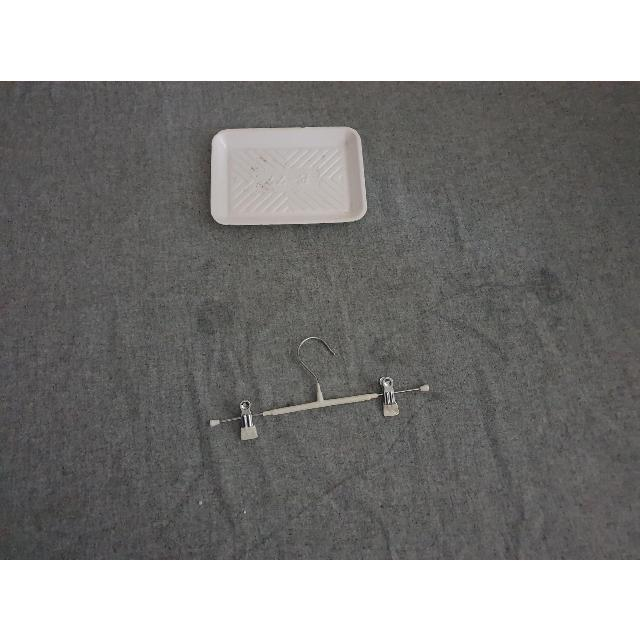Plastico descartable: (209, 126, 369, 229)
